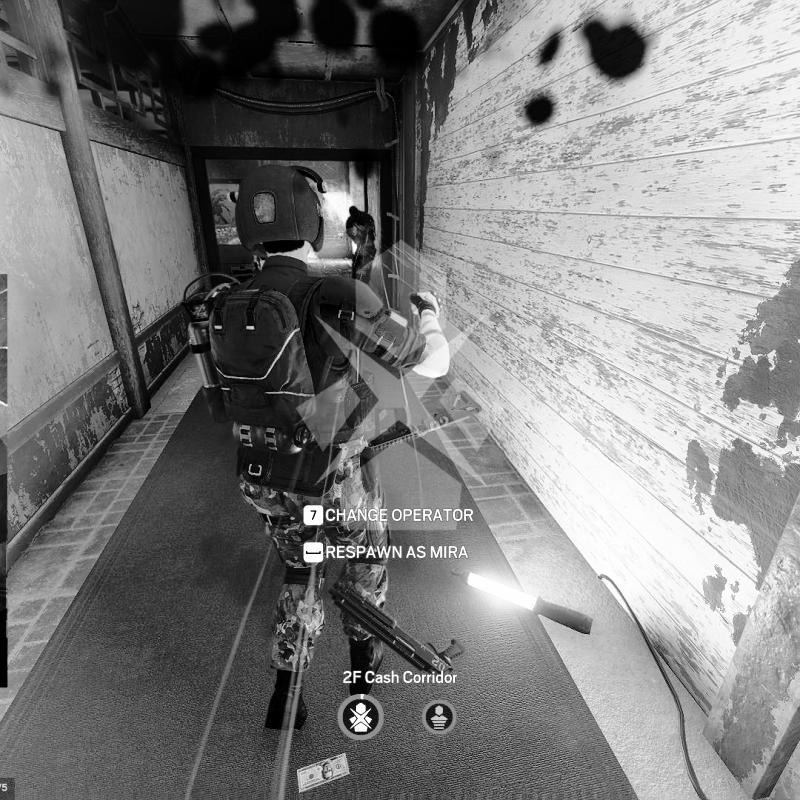Character: (185, 163, 452, 732), (345, 205, 378, 286)
Head: (233, 163, 327, 266), (349, 205, 358, 217)
